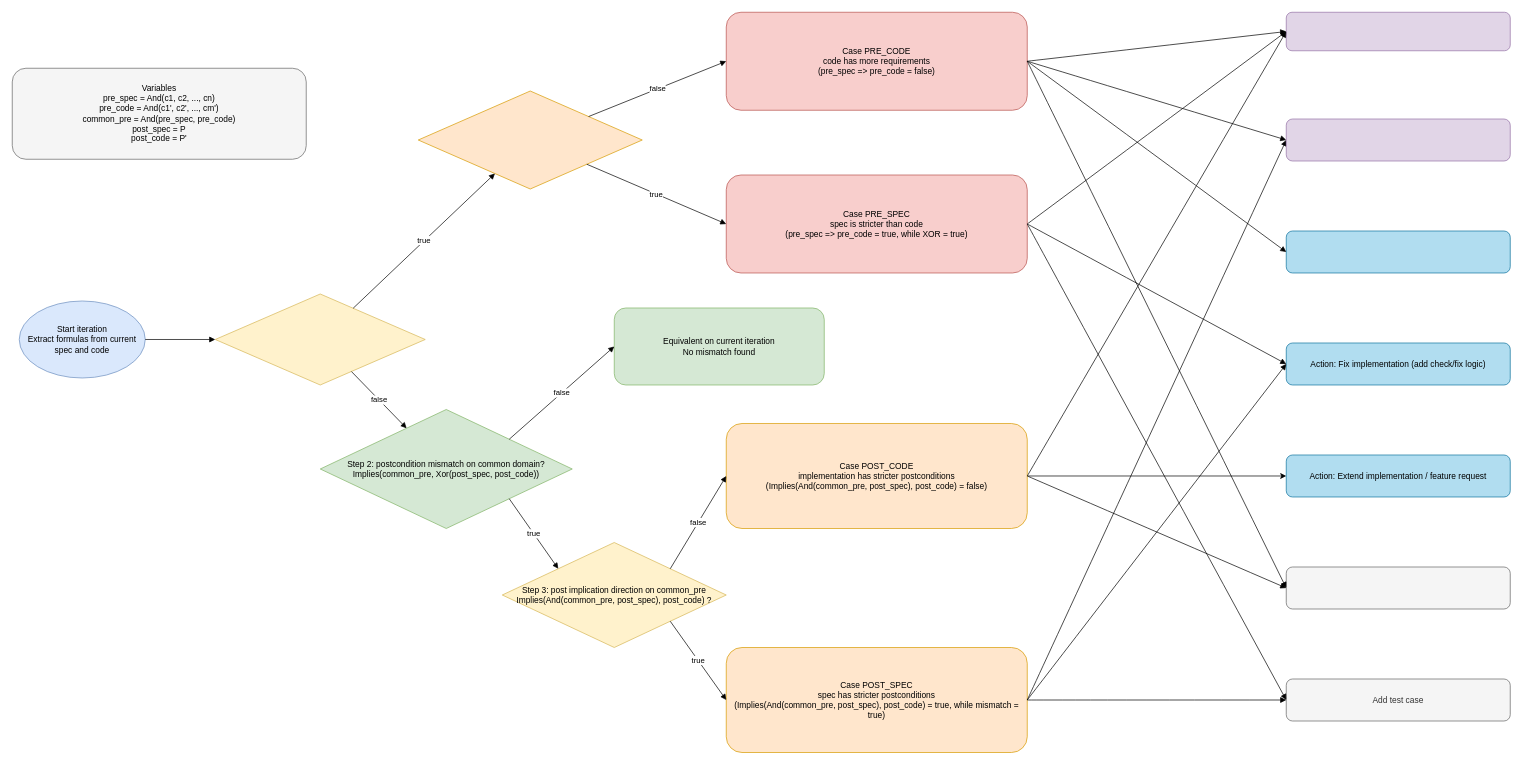
Image size: 1523x765. Some labels were removed from this diagram. The shapes that lost their labels are listed below. From the top down, each one's centre as x and y in pixels, then its label:
the point at 1398,31: Refine spec
the point at 530,139: Step 1a: implication direction pre_spec => pre_code ?
the point at 1398,139: Relax spec (maybe ignore)
the point at 1398,251: Action: Relax constraints in implementation
the point at 320,339: Step 1: precondition mismatch? Xor(pre_spec, pre_code)
the point at 1398,587: Add property to ignore list
